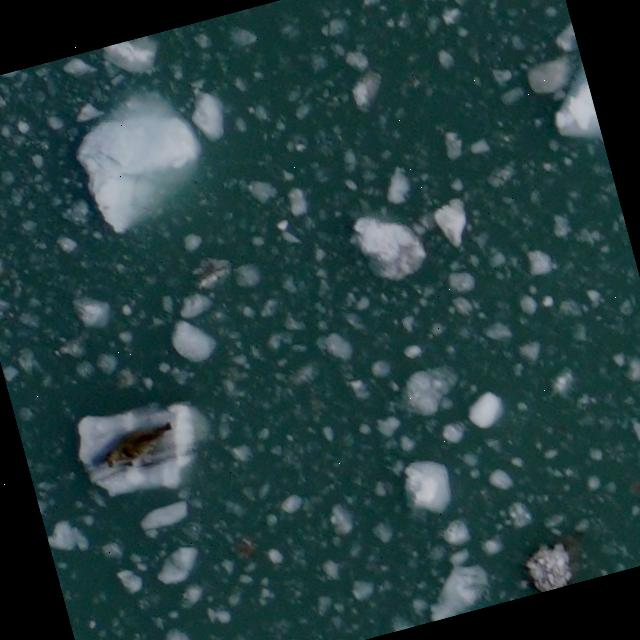seal: (90, 414, 186, 479)
